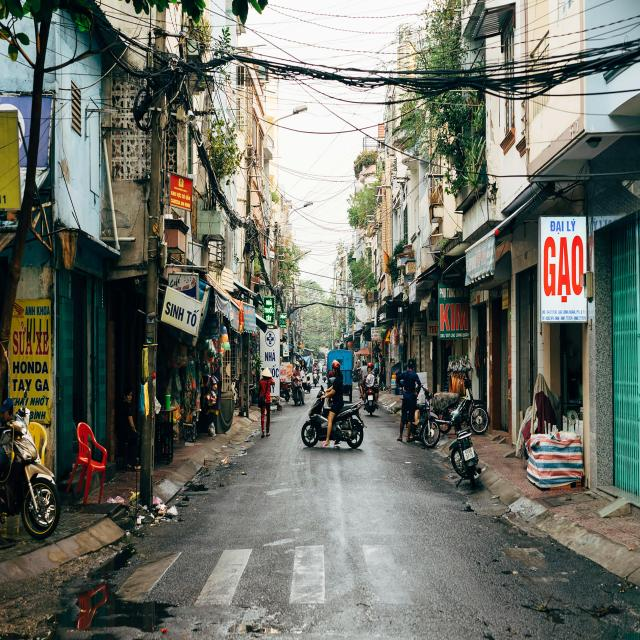motorcycle: (0, 415, 59, 539), (299, 390, 370, 452), (446, 404, 486, 492), (450, 372, 490, 436), (418, 386, 441, 452)
person: (396, 360, 419, 445), (255, 364, 276, 440), (326, 360, 346, 410)
